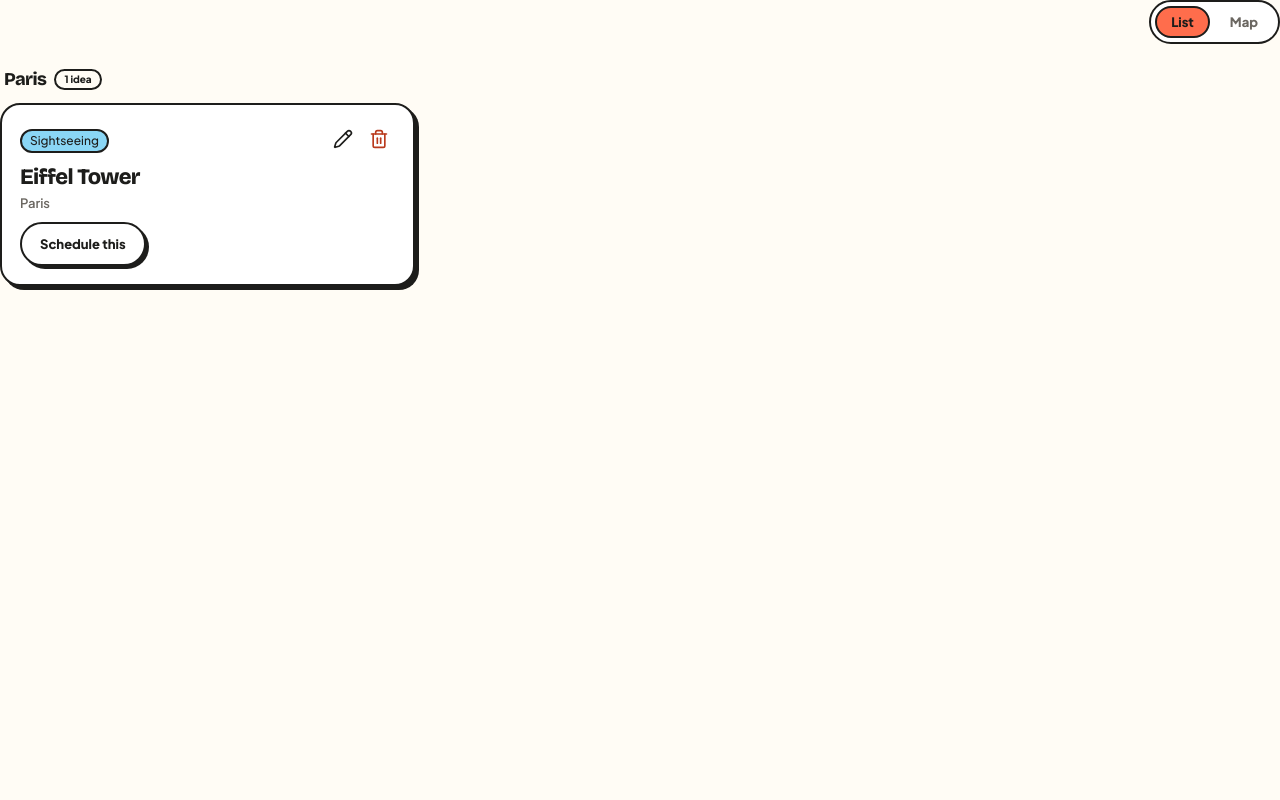
Test: WishlistBoard — Schedule button › opens ScheduleItemDialog when Schedule button is clicked
Click the button "Schedule this" at (83, 244), box x1=20 y1=222 x2=146 y2=266
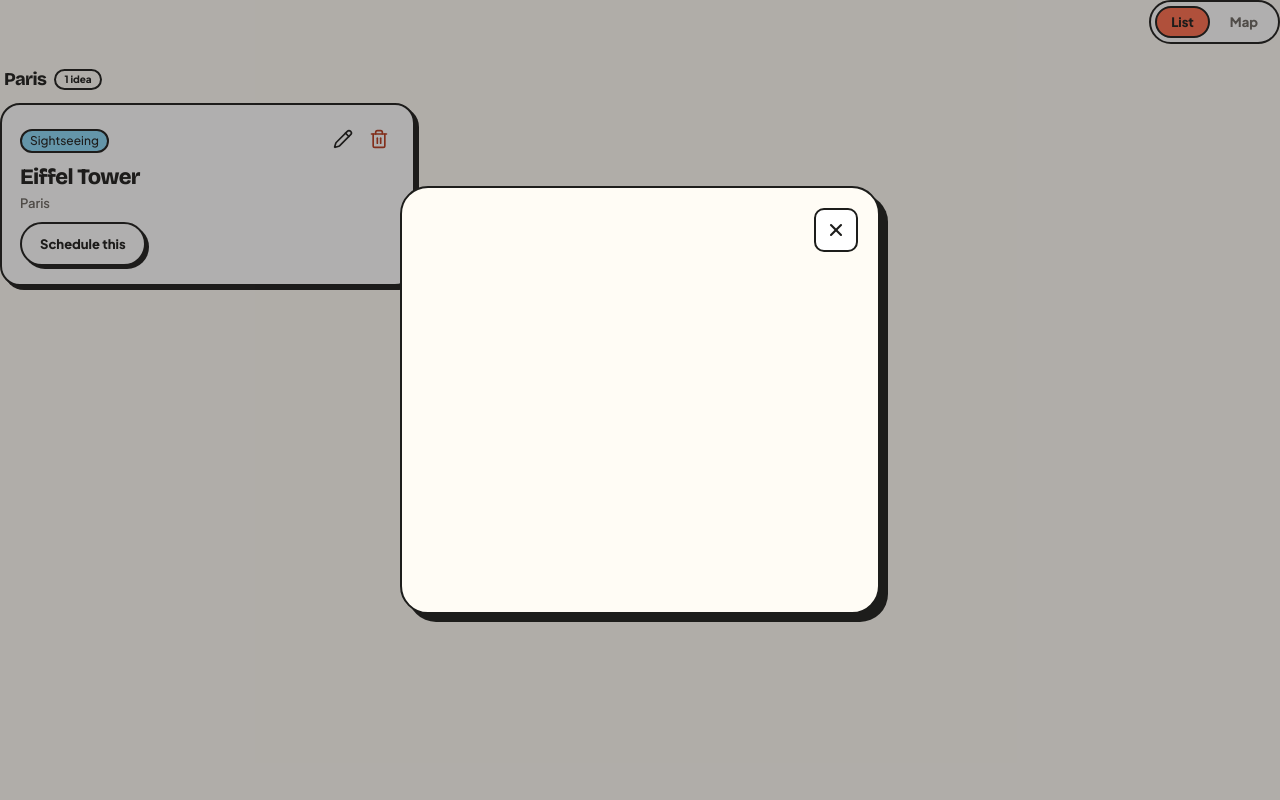
Result: the dialog named "Schedule Item" is shown at x1=400 y1=186 x2=880 y2=614
